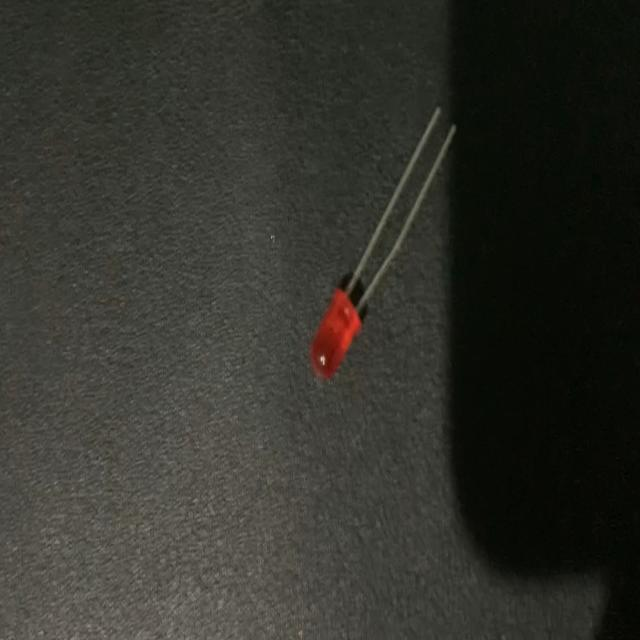LED: (310, 107, 459, 384)
